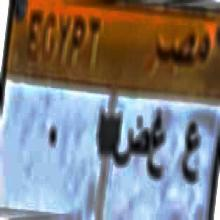0: (46, 116, 60, 157)
ain: (180, 118, 201, 193)
daad: (112, 115, 148, 182)
ghayn: (149, 106, 166, 188)
